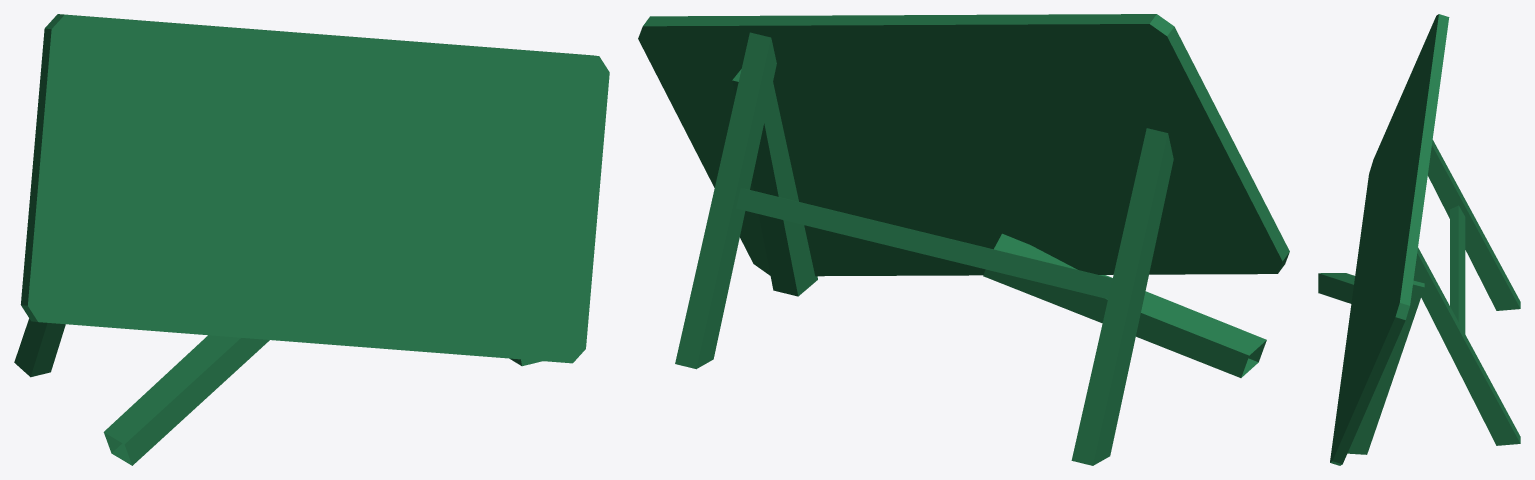
The model's file is rectangle_Sign_broken.fbx.
The picture shows the model from 3 angles, left to right: view 1: azimuth 30°, elevation 25°; view 2: azimuth 150°, elevation 25°; view 3: azimuth 270°, elevation 25°; orthographic projection. The views are drawn at different scales.
Parts seen in each view (by area): view 1: polySurface9; view 2: polySurface9; view 3: polySurface9.
Boxes of the visible parts, left/top/right/bottom form: polySurface9: left=14, top=14, right=609, bottom=465; polySurface9: left=638, top=14, right=1289, bottom=465; polySurface9: left=1318, top=14, right=1520, bottom=465.
Size of the model in its own units: 1.61 by 1.04 by 0.6449.
